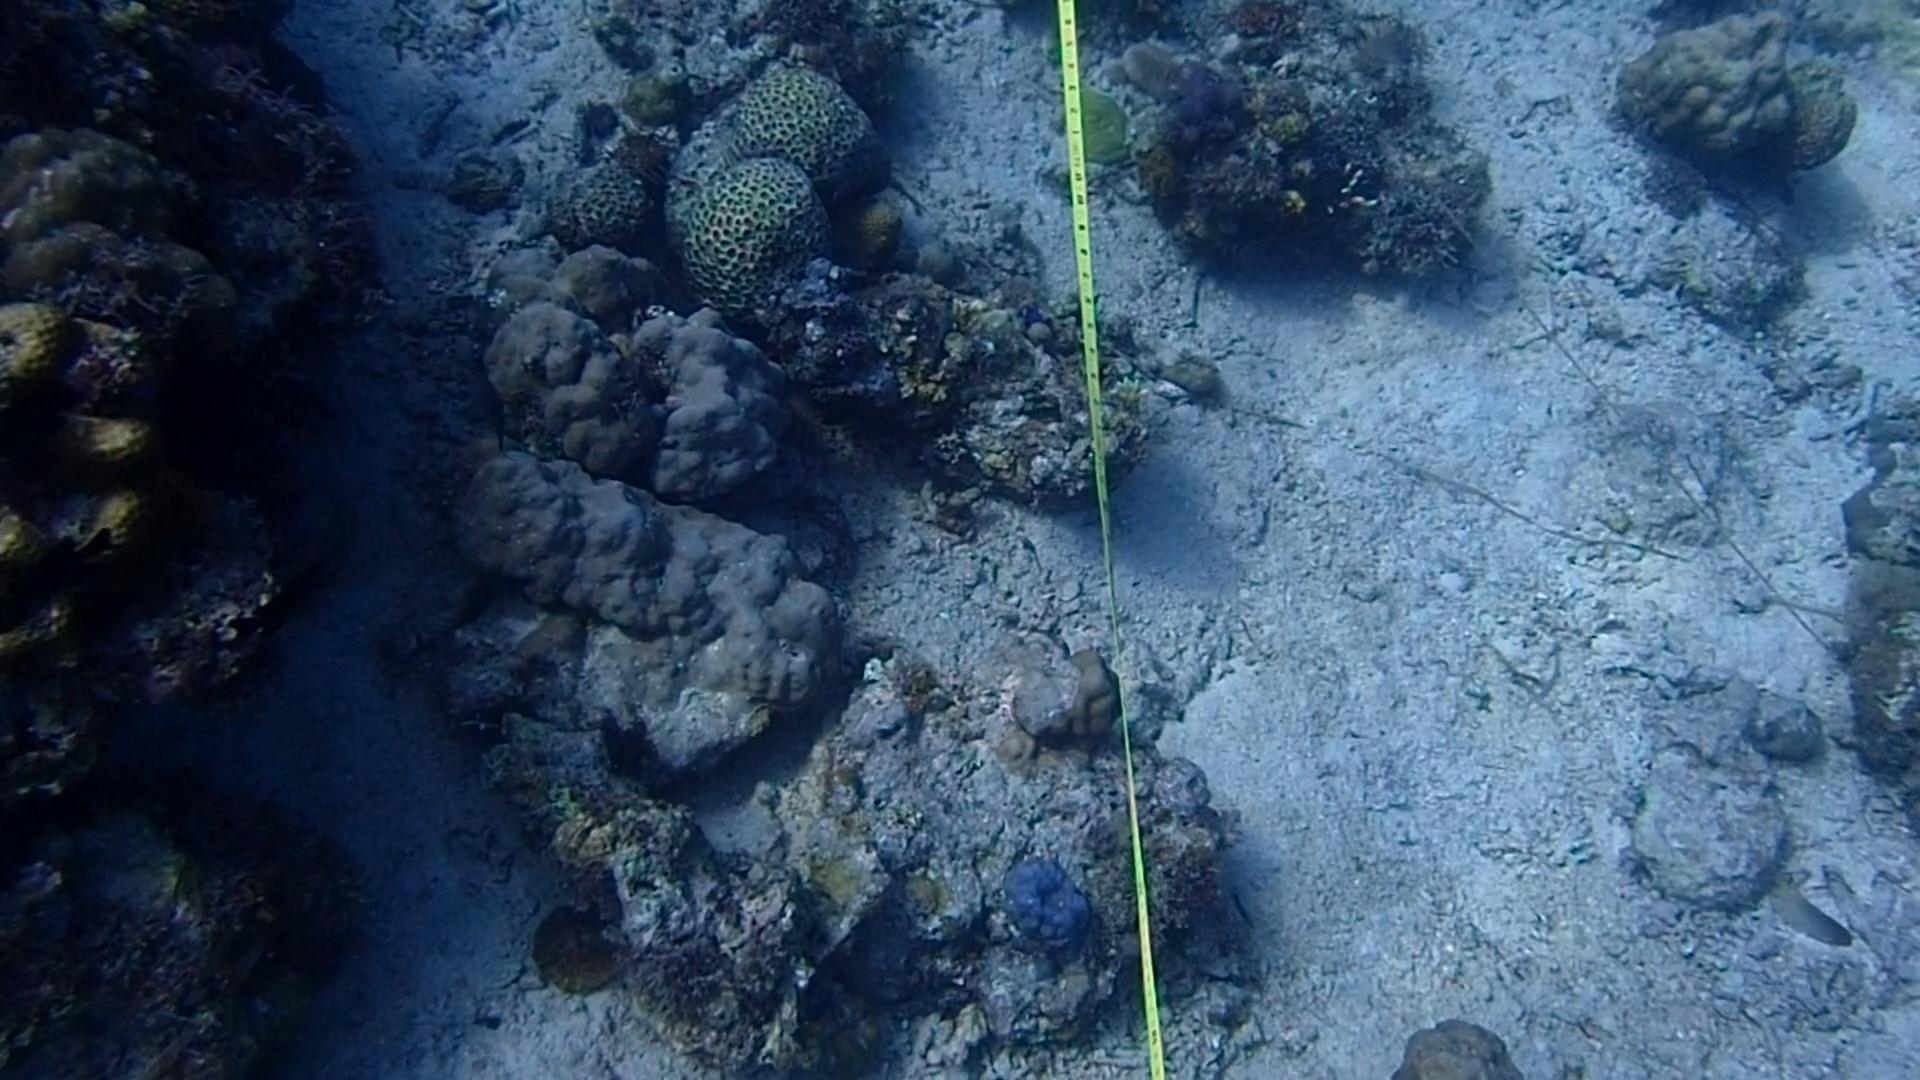Dark Fish: (0, 538, 115, 636), (0, 415, 84, 530), (476, 378, 535, 472)
Light Fish: (1766, 865, 1851, 965)
